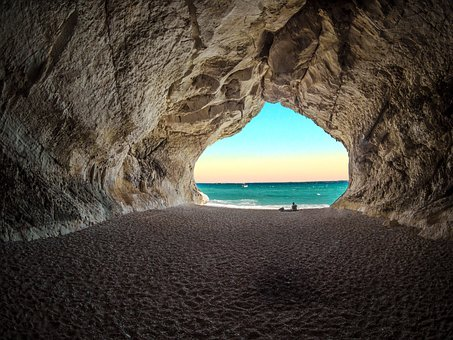sea: (205, 156, 343, 208)
stone: (8, 6, 453, 337)
